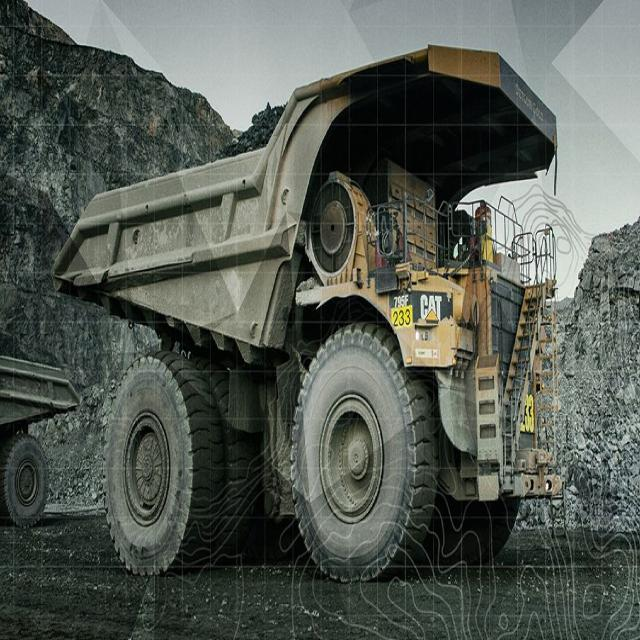dump_truck: (54, 34, 572, 578)
